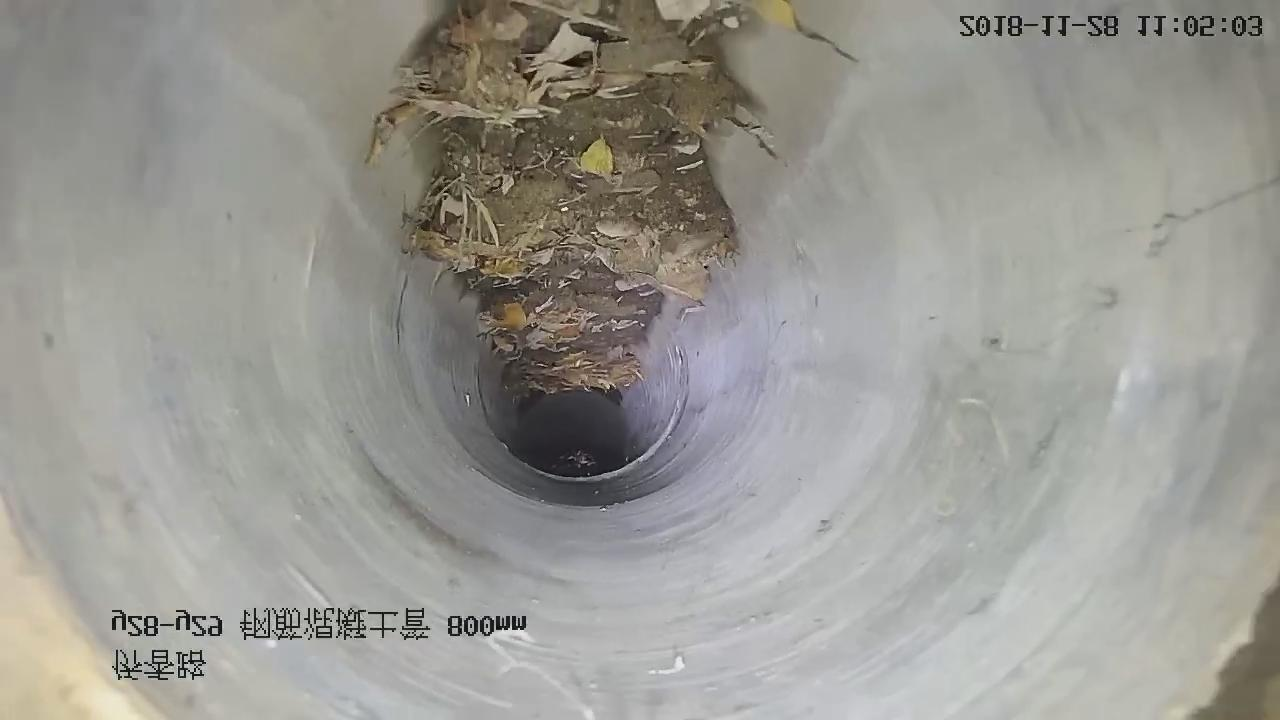CJ: (367, 1, 771, 403)
CKTJ: (537, 396, 685, 481), (671, 349, 683, 370)
